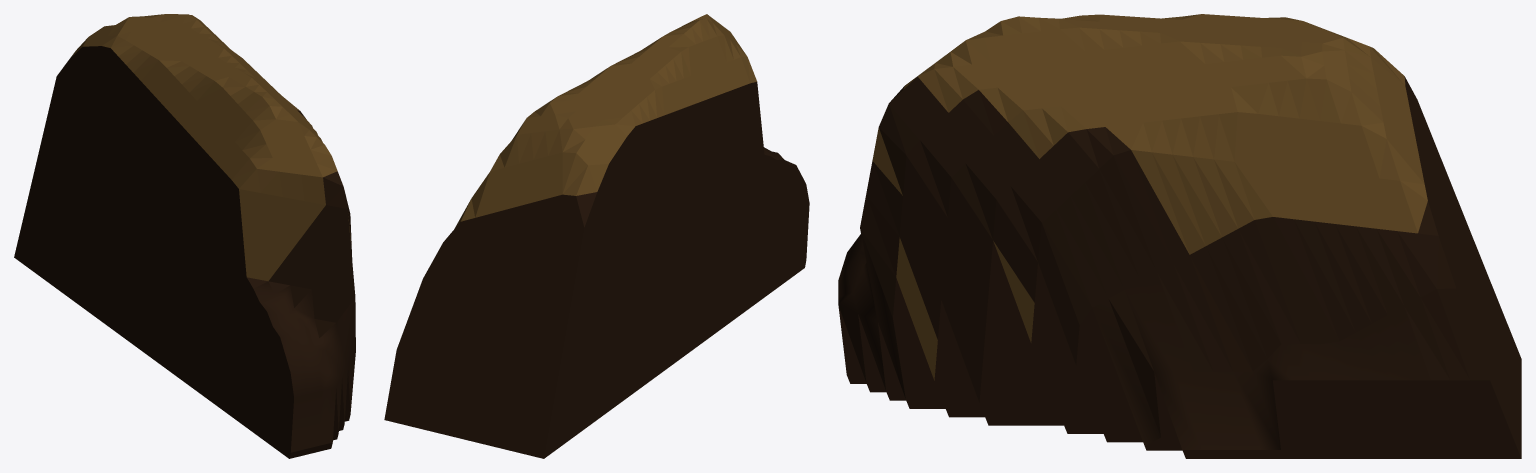
Rendered from ixm_cover_271.glb.
The picture shows the model from 3 angles, left to right: view 1: azimuth 30°, elevation 25°; view 2: azimuth 150°, elevation 25°; view 3: azimuth 270°, elevation 25°; orthographic projection. The views are drawn at different scales.
Parts seen in each view (by area): view 1: ixm_cover_271; view 2: ixm_cover_271; view 3: ixm_cover_271.
Boxes of the visible parts, bbox=[...] form: ixm_cover_271: bbox=[14, 14, 355, 458]; ixm_cover_271: bbox=[384, 14, 809, 458]; ixm_cover_271: bbox=[838, 14, 1521, 458].
Bounding box in the file's own units: 6 × 10.27 × 17.3.
